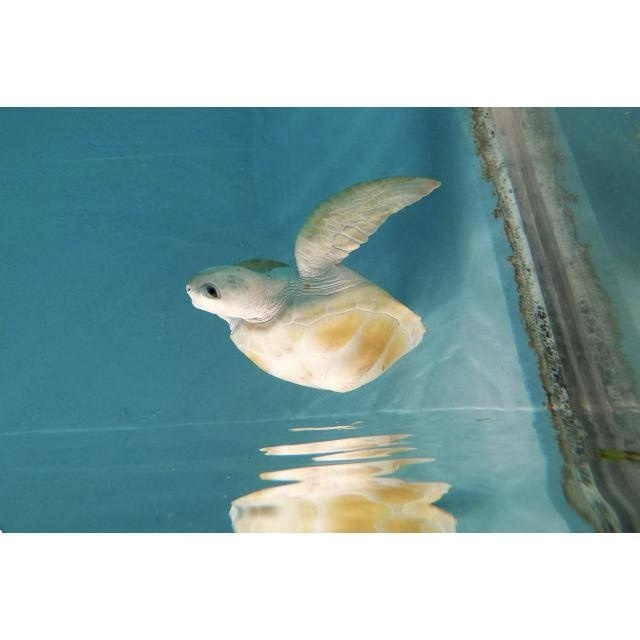turtle: (184, 177, 440, 393)
